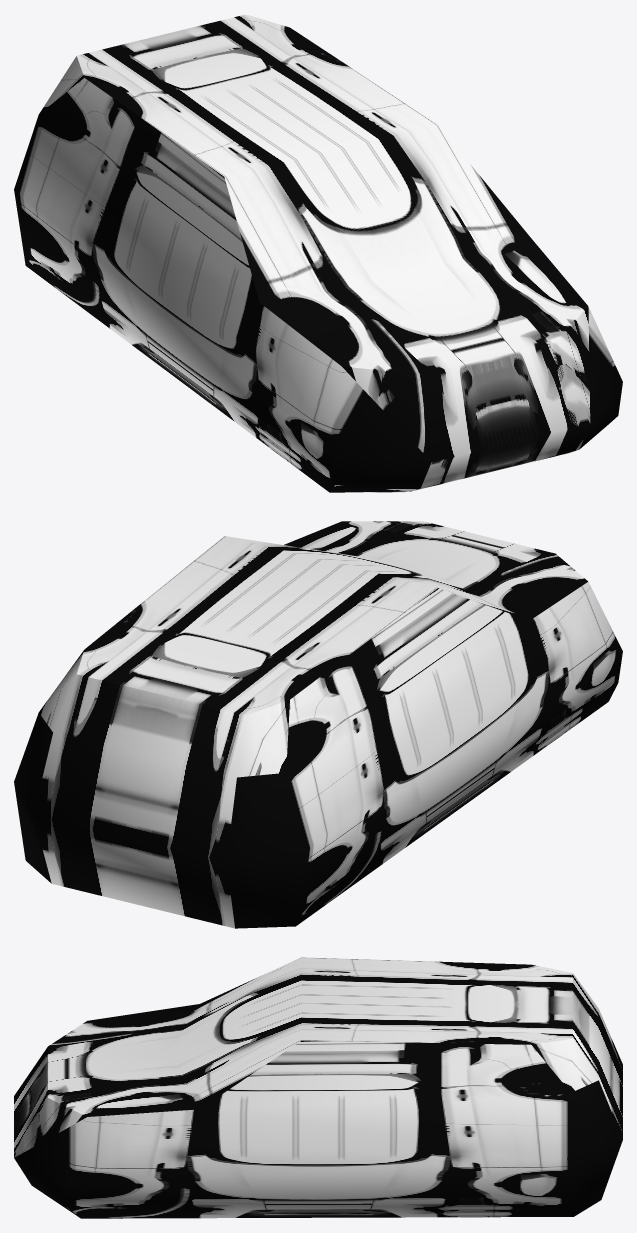
File: RealisticCar01_CollisionMesh.FBX
3 views of the same model, one above another, from view 1: azimuth 30°, elevation 25°; view 2: azimuth 150°, elevation 25°; view 3: azimuth 270°, elevation 25° (orthographic). The views are drawn at different scales.
Parts seen in each view (by area): view 1: Car01_Collider; view 2: Car01_Collider; view 3: Car01_Collider.
Boxes of the visible parts, bbox=[...] form: Car01_Collider: bbox=[14, 14, 622, 492]; Car01_Collider: bbox=[14, 521, 622, 928]; Car01_Collider: bbox=[14, 957, 622, 1218].
Size of the model in its own units: 1.93 by 4.36 by 1.3.
